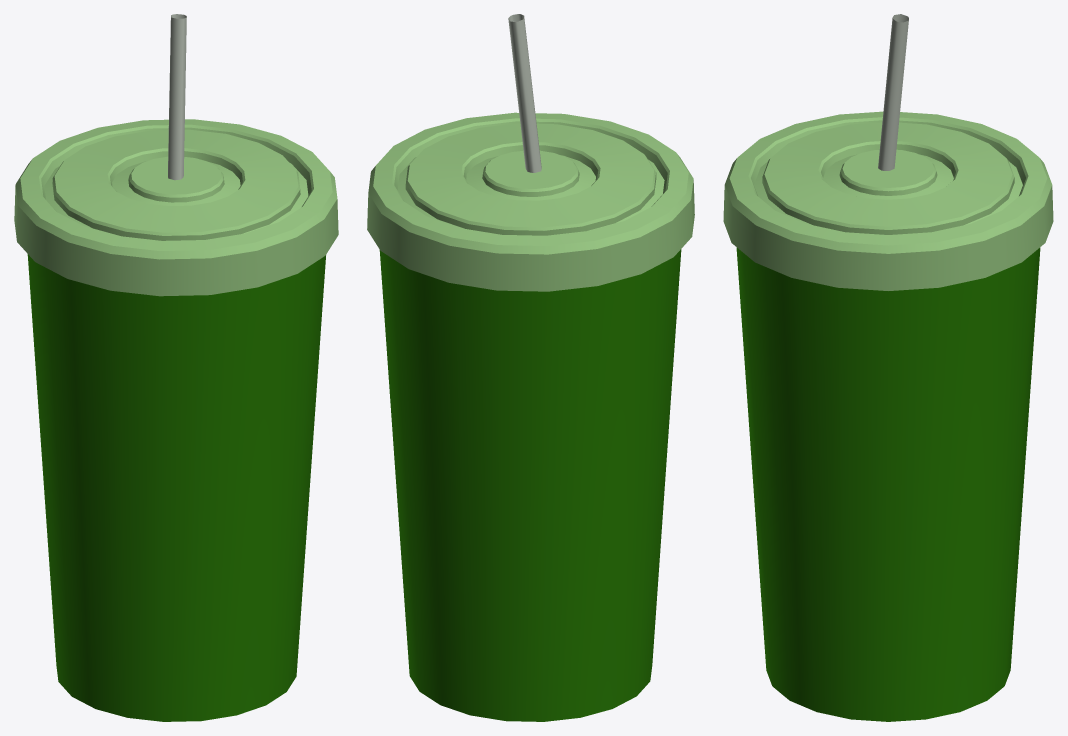
File: Food Court_Soda 2.fbx
The picture shows the model from 3 angles, left to right: view 1: azimuth 30°, elevation 25°; view 2: azimuth 150°, elevation 25°; view 3: azimuth 270°, elevation 25°; orthographic projection.
Parts seen in each view (by area): view 1: polySurface23; view 2: polySurface23; view 3: polySurface23.
Boxes of the visible parts, left/top/right/bottom form: polySurface23: left=14, top=14, right=338, bottom=721; polySurface23: left=367, top=14, right=694, bottom=721; polySurface23: left=723, top=14, right=1053, bottom=721.
Size of the model in its own units: 0.3109 by 0.6832 by 0.3109.
